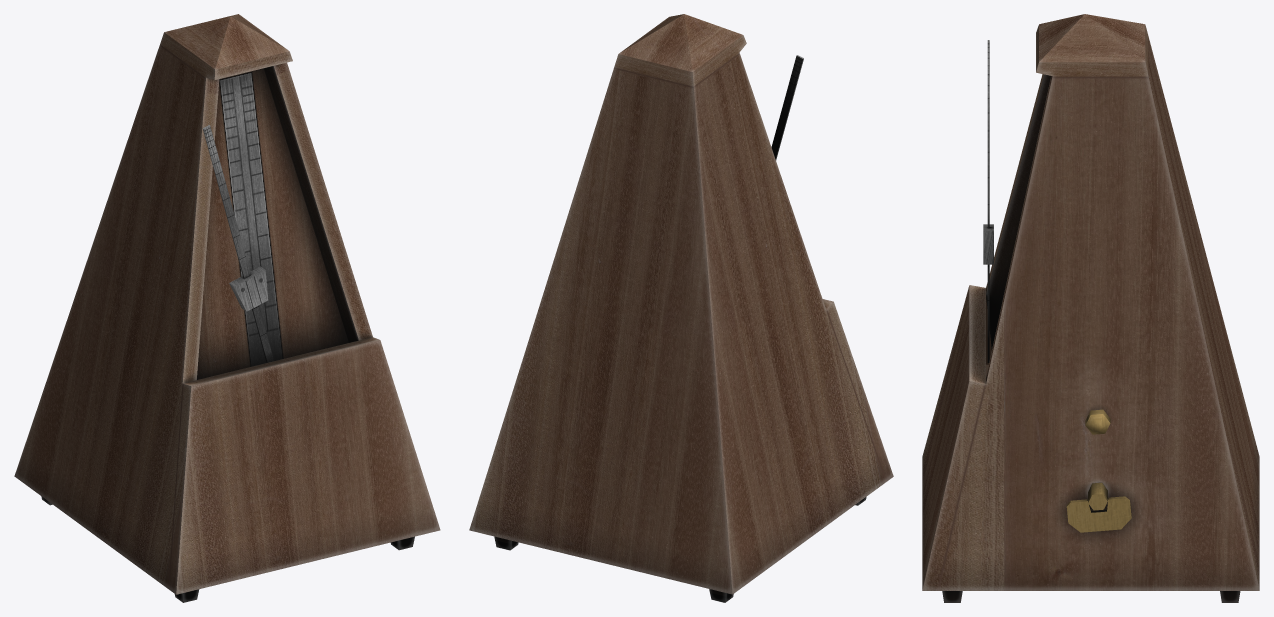
The model's file is Metronome.FBX.
3 renders of one model, left to right at view 1: azimuth 30°, elevation 25°; view 2: azimuth 150°, elevation 25°; view 3: azimuth 270°, elevation 25°, orthographic. The views are drawn at different scales.
Parts seen in each view (by area): view 1: MetronomeBase, Pendulum; view 2: MetronomeBase, Pendulum; view 3: MetronomeBase, Pendulum.
Part boxes in pixels (box(x1,y1,x2,y2)): MetronomeBase: box(14, 14, 440, 602); Pendulum: box(202, 125, 274, 362); MetronomeBase: box(469, 14, 893, 602); Pendulum: box(771, 55, 803, 160); MetronomeBase: box(922, 14, 1259, 602); Pendulum: box(983, 40, 993, 362).
Size of the model in its own units: 15.19 by 27.61 by 15.9.
1 material, 1 textured.
